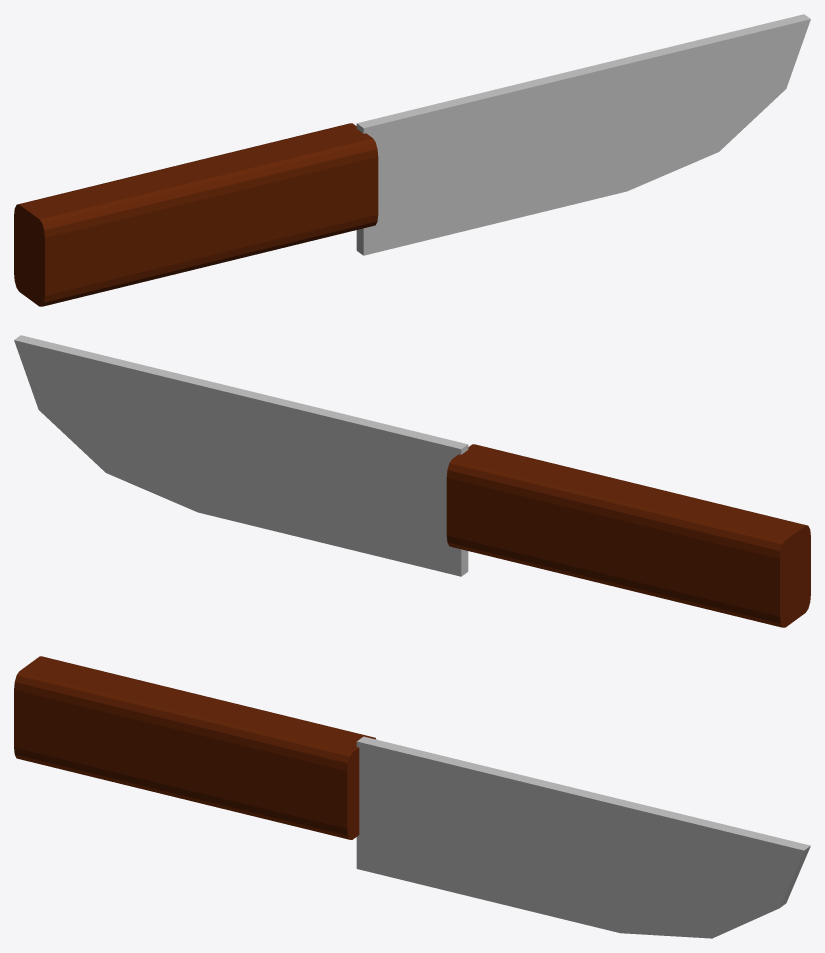
The model's file is couteau.glb.
3 renders of one model, top to bottom at view 1: azimuth 30°, elevation 25°; view 2: azimuth 150°, elevation 25°; view 3: azimuth 330°, elevation 25°, orthographic.
Parts seen in each view (by area): view 1: Cube.001; view 2: Cube.001; view 3: Cube.001.
Boxes of the visible parts, <box> form: Cube.001: <box>14,14,810,306</box>; Cube.001: <box>14,335,810,627</box>; Cube.001: <box>14,656,810,938</box>.
Size of the model in its own units: 10.32 by 1.62 by 0.7102.
